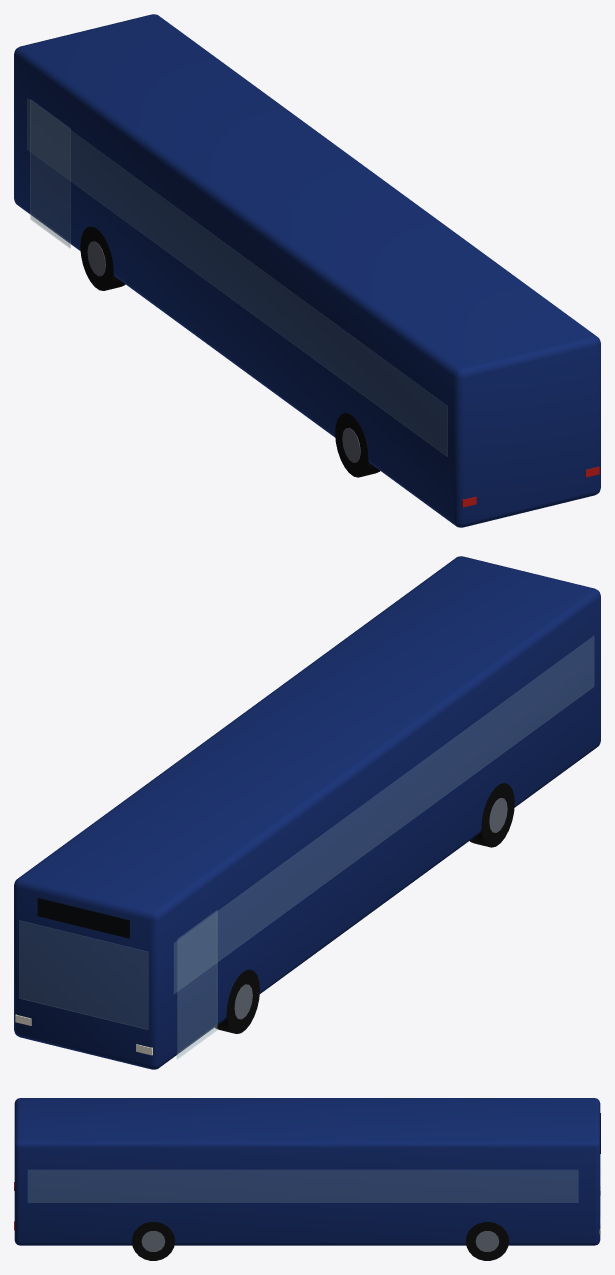
The model's file is vehicle.bus.airside.glb.
The picture shows the model from 3 angles, top to bottom: view 1: azimuth 30°, elevation 25°; view 2: azimuth 150°, elevation 25°; view 3: azimuth 270°, elevation 25°; orthographic projection. The views are drawn at different scales.
Visible parts, largest first — view 1: main__car_blue, main__glass, main__rubber, main__steel_painted; view 2: main__car_blue, main__glass, main__rubber, main__screen, main__steel_painted; view 3: main__car_blue, main__glass, main__rubber, main__steel_painted.
Part boxes in pixels (x1,y1,x2,y2): main__car_blue: (14,14,600,527); main__glass: (27,99,447,456); main__rubber: (80,226,379,477); main__steel_painted: (87,241,360,462); main__car_blue: (14,556,600,1069); main__glass: (19,636,593,1058); main__rubber: (215,783,514,1033); main__screen: (37,898,129,938); main__steel_painted: (234,798,507,1019); main__car_blue: (14,1098,600,1245); main__glass: (28,1170,578,1202); main__rubber: (131,1222,508,1260); main__steel_painted: (141,1231,499,1251).
Bounding box in the file's own units: 2.57 × 2.99 × 13.53.
